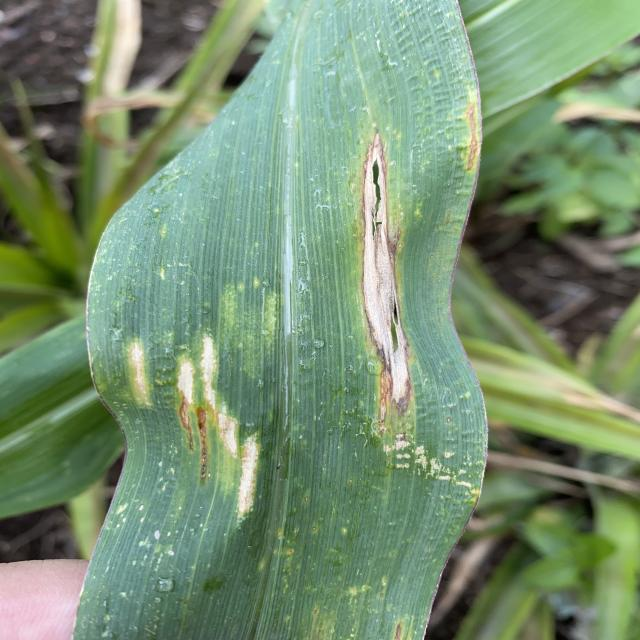Corn_Leaf_Blight: (85, 17, 484, 640)
